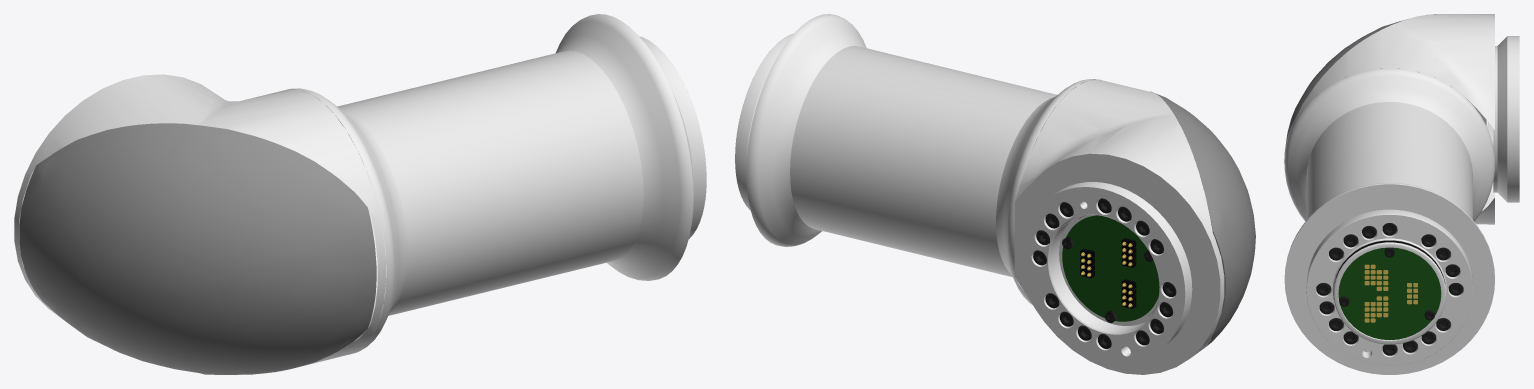
3 renders of one model, left to right at view 1: azimuth 30°, elevation 25°; view 2: azimuth 150°, elevation 25°; view 3: azimuth 270°, elevation 25°, orthographic. The views are drawn at different scales.
Visible parts, largest first — view 1: L86.001; view 2: L86.001; view 3: L86.001.
Boxes of the visible parts, x1=… form: L86.001: x1=14, y1=14, x2=706, y2=374; L86.001: x1=735, y1=14, x2=1255, y2=374; L86.001: x1=1284, y1=14, x2=1519, y2=374.
Bounding box in the file's own units: 0.2129 × 0.0863 × 0.0961.
